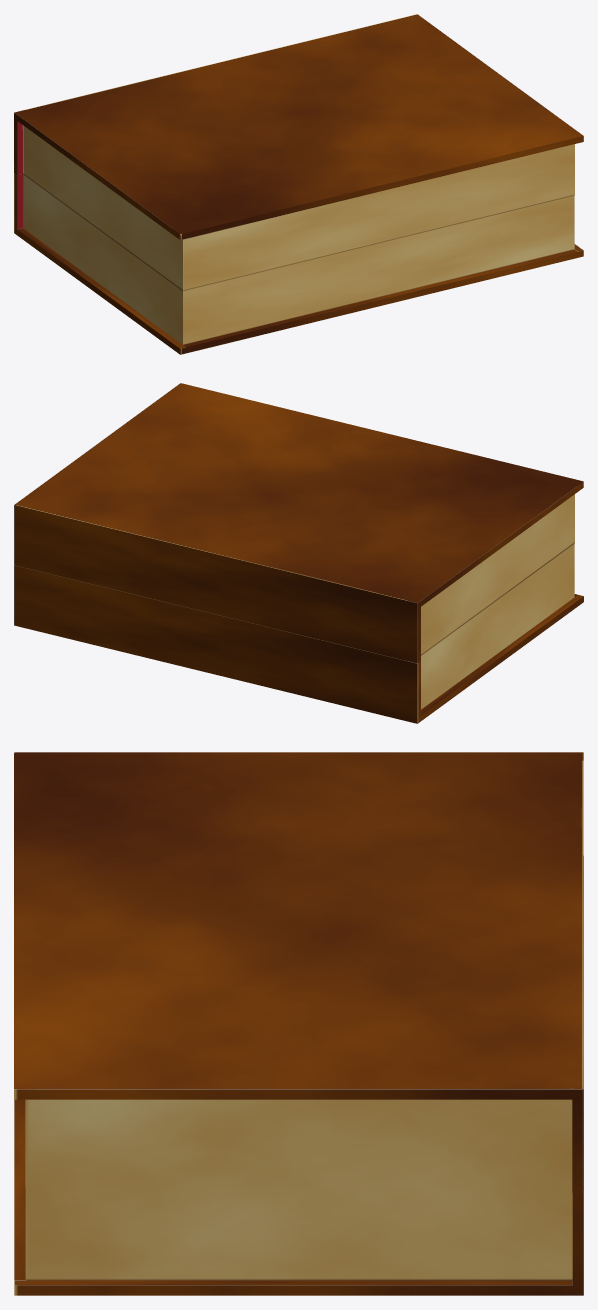
Rendered from Book.obj.
3 renders of one model, top to bottom at view 1: azimuth 30°, elevation 25°; view 2: azimuth 150°, elevation 25°; view 3: azimuth 270°, elevation 25°, orthographic. The views are drawn at different scales.
Parts seen in each view (by area): view 1: LeftSide_Cube.003, RightSide_Cube.002; view 2: LeftSide_Cube.003, RightSide_Cube.002; view 3: LeftSide_Cube.003, RightSide_Cube.002.
Boxes of the visible parts, box(x1,y1,x2,y2) form: LeftSide_Cube.003: box(14, 14, 583, 290); RightSide_Cube.002: box(14, 173, 583, 354); LeftSide_Cube.003: box(14, 383, 583, 663); RightSide_Cube.002: box(14, 543, 583, 723); LeftSide_Cube.003: box(14, 752, 583, 1192); RightSide_Cube.002: box(14, 855, 583, 1295).
Bounding box in the file's own units: 0.7 × 0.2 × 0.5003.
